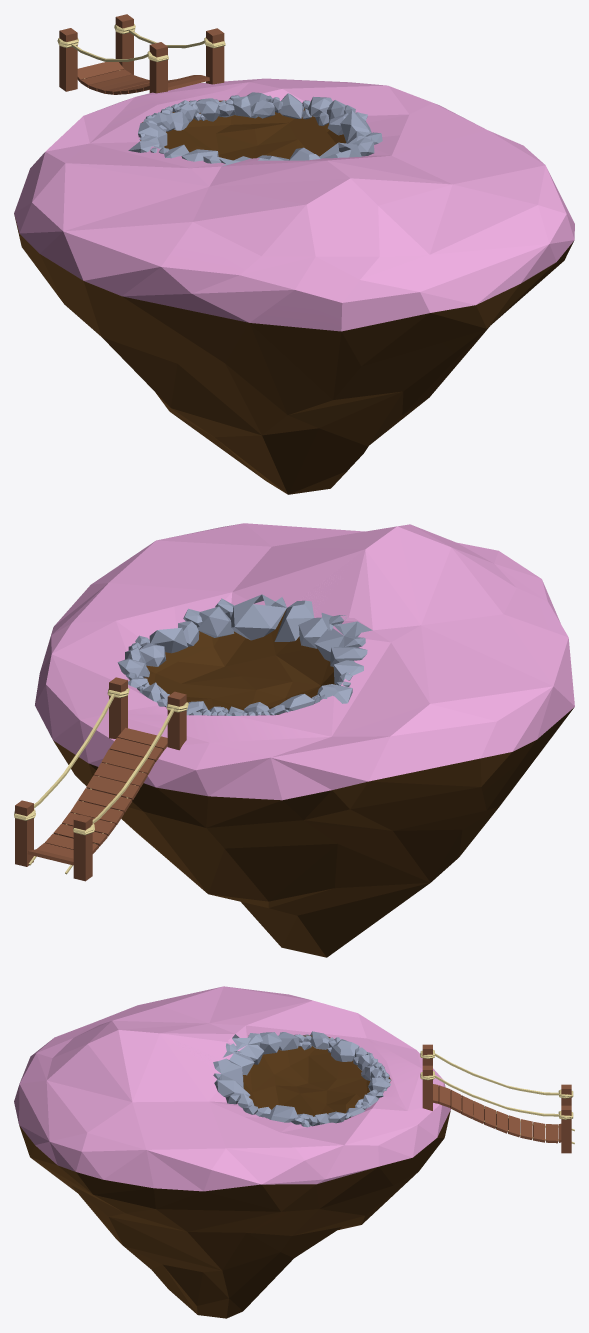
File: cherryMainIsland.fbx
The picture shows the model from 3 angles, top to bottom: view 1: azimuth 30°, elevation 25°; view 2: azimuth 150°, elevation 25°; view 3: azimuth 270°, elevation 25°; orthographic projection. The views are drawn at different scales.
Visible parts, largest first — view 1: Cube.005; view 2: Cube.005; view 3: Cube.005.
Part boxes in pixels (x1,y1,x2,y2): Cube.005: [14, 14, 574, 494]; Cube.005: [14, 523, 574, 957]; Cube.005: [14, 986, 574, 1318].
Bounding box in the file's own units: 238 × 179 × 328.
